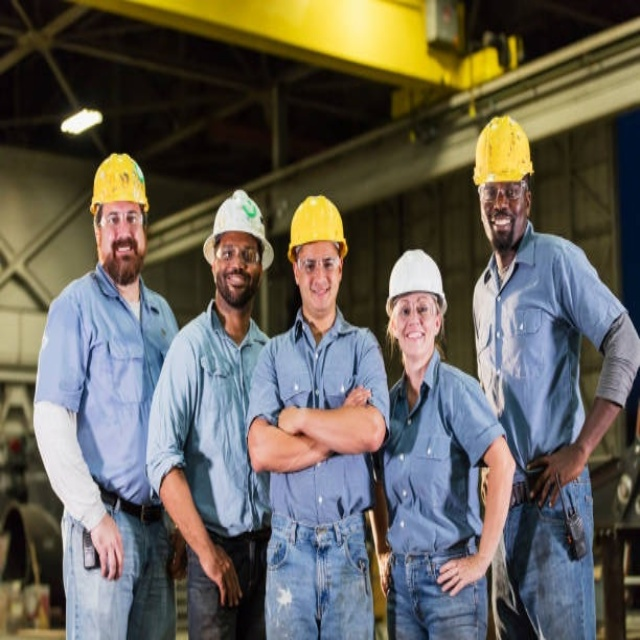Gafas: (90, 153, 150, 215), (480, 183, 528, 205), (215, 244, 262, 265), (393, 301, 440, 321), (296, 255, 341, 274), (98, 210, 145, 228)
Sin_guantes: (528, 441, 584, 504), (203, 541, 244, 609), (86, 507, 122, 580), (436, 551, 479, 596), (342, 378, 374, 409)
Sin_mascara: (111, 234, 138, 275), (488, 212, 513, 245), (223, 268, 246, 298), (403, 325, 427, 353), (307, 284, 333, 306)
